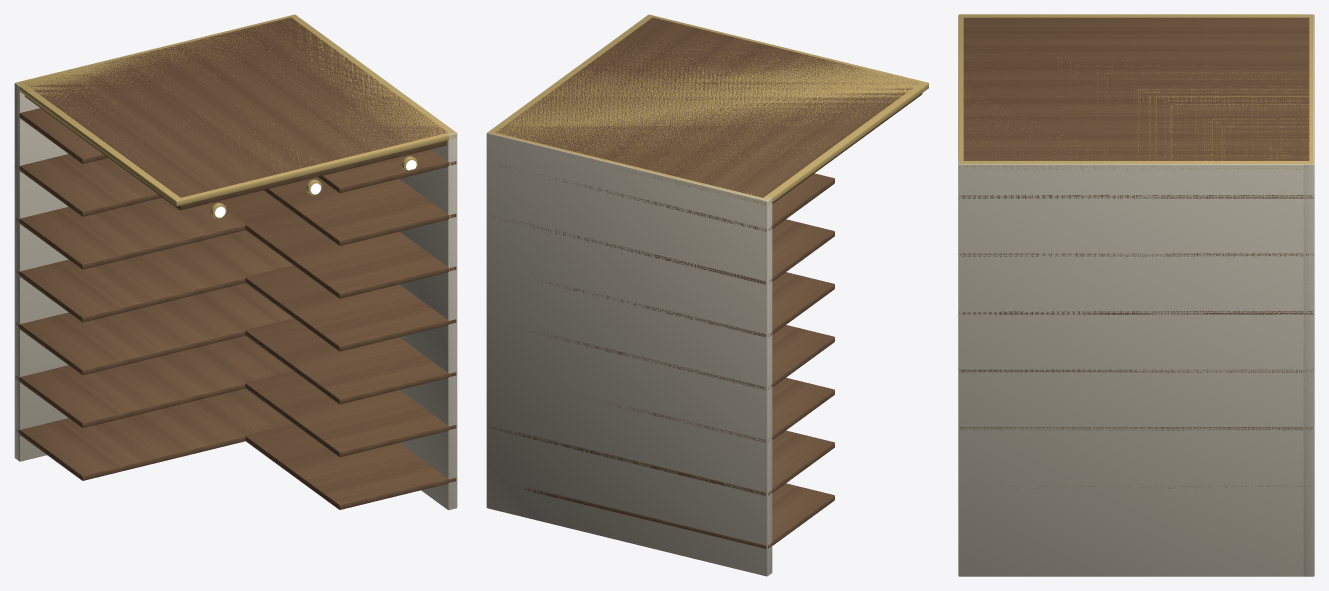
File: pf_display_corner_shelving_t4.glb
3 renders of one model, left to right at view 1: azimuth 30°, elevation 25°; view 2: azimuth 150°, elevation 25°; view 3: azimuth 270°, elevation 25°, orthographic. The views are drawn at different scales.
Visible parts, largest first — view 1: Crown_Main, Corner_Shelf_X_04, Corner_Shelf_X_02, Corner_Shelf_X_03, Corner_Shelf_X_01, Crown_Trim, Corner_Back_Y, Corner_Back_X, Corner_Shelf_Y_05, Corner_Shelf_Y_02, Corner_Shelf_Y_01, Corner_Shelf_X_05 (+6 smaller); view 2: Corner_Back_X, Crown_Main, Crown_Trim, Corner_Shelf_X_02, Corner_Shelf_X_01, Corner_Shelf_X_06, Corner_Shelf_X_04, Corner_Shelf_X_05, Corner_Shelf_X_03, Corner_Shelf_X_07; view 3: Corner_Back_Y, Crown_Main, Crown_Trim, Corner_Back_X, Corner_Shelf_Y_05, Corner_Shelf_Y_07, Corner_Shelf_Y_03, Corner_Shelf_Y_04, Corner_Shelf_Y_06.
Boxes of the visible parts, x1=… form: Crown_Main: x1=24, y1=17, x2=447, y2=209; Corner_Shelf_X_04: x1=16, y1=230, x2=293, y2=322; Corner_Shelf_X_02: x1=15, y1=335, x2=293, y2=427; Corner_Shelf_X_03: x1=16, y1=283, x2=292, y2=375; Corner_Shelf_X_01: x1=16, y1=388, x2=292, y2=480; Crown_Trim: x1=15, y1=14, x2=456, y2=206; Corner_Back_Y: x1=297, y1=16, x2=457, y2=510; Corner_Back_X: x1=14, y1=14, x2=299, y2=461; Corner_Shelf_Y_05: x1=216, y1=190, x2=456, y2=298; Corner_Shelf_Y_02: x1=202, y1=336, x2=456, y2=456; Corner_Shelf_Y_01: x1=204, y1=390, x2=456, y2=509; Corner_Shelf_X_05: x1=16, y1=193, x2=264, y2=269; Corner_Back_X: x1=486, y1=129, x2=772, y2=576; Crown_Main: x1=496, y1=17, x2=922, y2=203; Crown_Trim: x1=488, y1=14, x2=928, y2=205; Corner_Shelf_X_02: x1=489, y1=426, x2=834, y2=495; Corner_Shelf_X_01: x1=521, y1=483, x2=834, y2=548; Corner_Shelf_X_06: x1=491, y1=214, x2=834, y2=284; Corner_Shelf_X_04: x1=488, y1=319, x2=834, y2=389; Corner_Shelf_X_05: x1=541, y1=272, x2=834, y2=337; Corner_Shelf_X_03: x1=583, y1=377, x2=834, y2=442; Corner_Shelf_X_07: x1=495, y1=165, x2=834, y2=231; Corner_Back_Y: x1=958, y1=160, x2=1314, y2=576; Crown_Main: x1=963, y1=17, x2=1309, y2=160; Crown_Trim: x1=958, y1=14, x2=1313, y2=169; Corner_Back_X: x1=1303, y1=14, x2=1314, y2=576; Corner_Shelf_Y_05: x1=959, y1=311, x2=1313, y2=314; Corner_Shelf_Y_07: x1=959, y1=195, x2=1313, y2=198; Corner_Shelf_Y_03: x1=960, y1=427, x2=1313, y2=430; Corner_Shelf_Y_04: x1=959, y1=369, x2=1311, y2=372; Corner_Shelf_Y_06: x1=959, y1=253, x2=1307, y2=256.
Bounding box in the file's own units: 1.8 × 2.3 × 1.8.
Materials: 5 (1 with a texture image).
